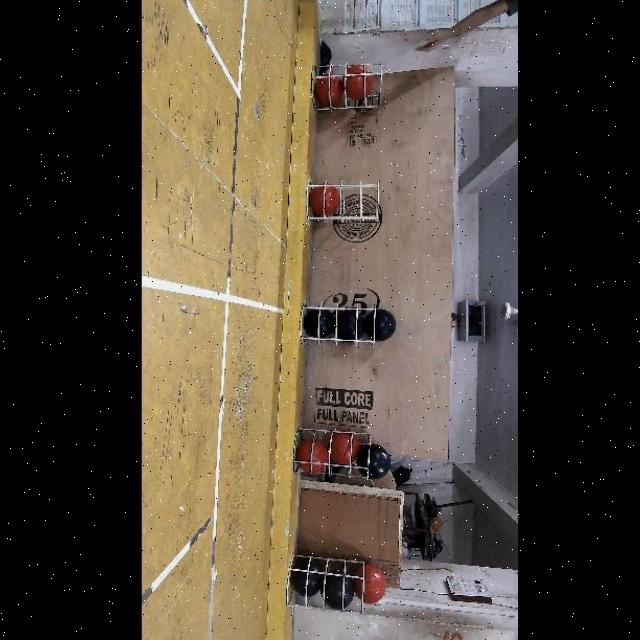P: (356, 443, 390, 480), (290, 560, 324, 596), (364, 309, 397, 340), (304, 308, 332, 338), (336, 307, 364, 337), (324, 578, 350, 606)
R: (353, 565, 386, 604), (298, 438, 328, 472), (344, 68, 372, 104), (330, 432, 356, 463), (311, 186, 339, 214), (317, 74, 341, 106)
S: (292, 556, 376, 614), (312, 58, 388, 116), (296, 428, 376, 477), (300, 302, 380, 346), (314, 176, 386, 220)
